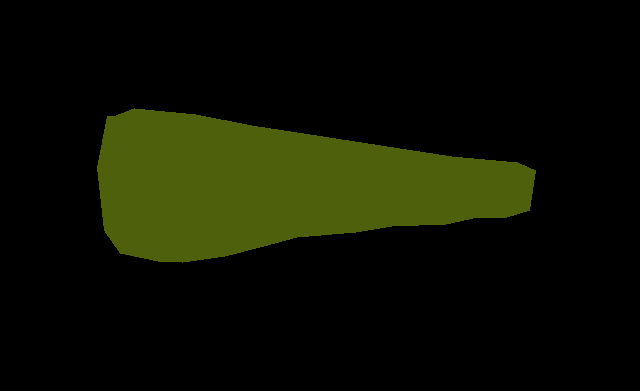Train: (97, 108, 535, 263)
